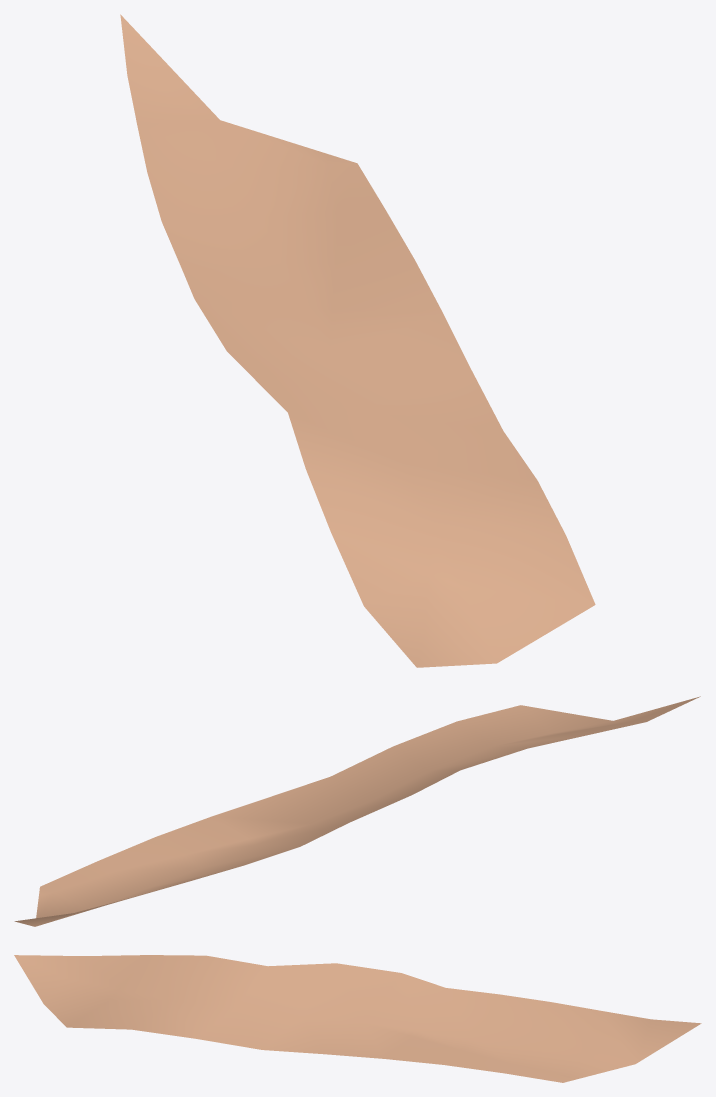
The model's file is lateral-part-of-longitudinal-arch-of-foot-r.glb.
The picture shows the model from 3 angles, top to bottom: view 1: azimuth 30°, elevation 25°; view 2: azimuth 150°, elevation 25°; view 3: azimuth 270°, elevation 25°; orthographic projection. The views are drawn at different scales.
Parts seen in each view (by area): view 1: Lateral part of longitudinal arch of foot.r; view 2: Lateral part of longitudinal arch of foot.r; view 3: Lateral part of longitudinal arch of foot.r.
Boxes of the visible parts, x1,y1,x2,y2 form: Lateral part of longitudinal arch of foot.r: [120, 14, 595, 667]; Lateral part of longitudinal arch of foot.r: [14, 696, 700, 926]; Lateral part of longitudinal arch of foot.r: [14, 955, 701, 1082].
Bounding box in the file's own units: 0.0462 × 0.00889 × 0.1123.
